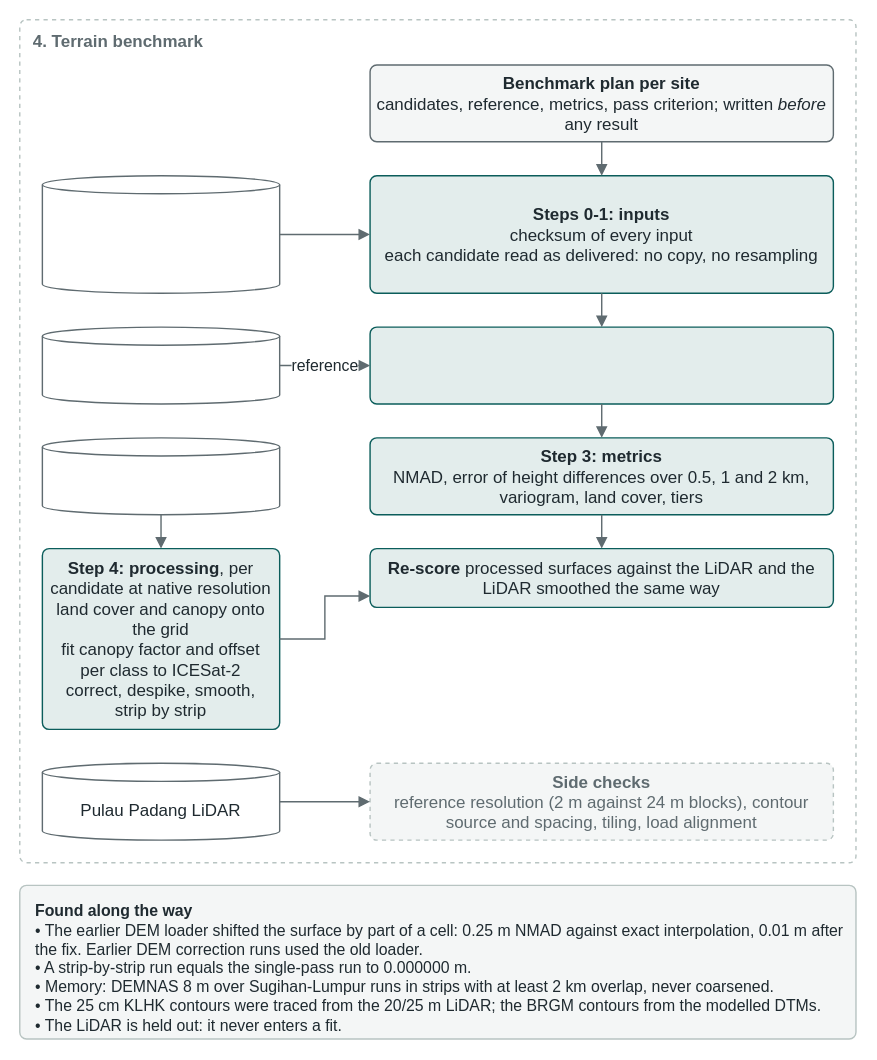
This 877x1060 diagram has some shape labels left out. The shapes that lost their labels are listed below. From the top down, each one's box as (x1, y1, x2, y2) in pixels, then its label:
(41, 174, 280, 293): Candidates DEMNAS, GLO-30, FABDEM, DeltaDTM, KLHK modelled DTMs
(41, 326, 280, 404): KLHK LiDAR DEMs, 25 m (Jambi, OKI)
(369, 326, 834, 404): Step 2 candidate minus LiDAR at every LiDAR cell inside the KHG
(41, 437, 280, 515): Land cover · canopy height · ICESat-2 points
